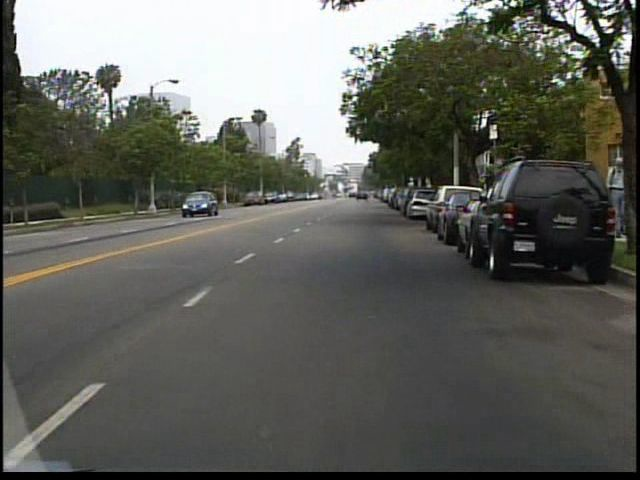person: (600, 154, 626, 242)
